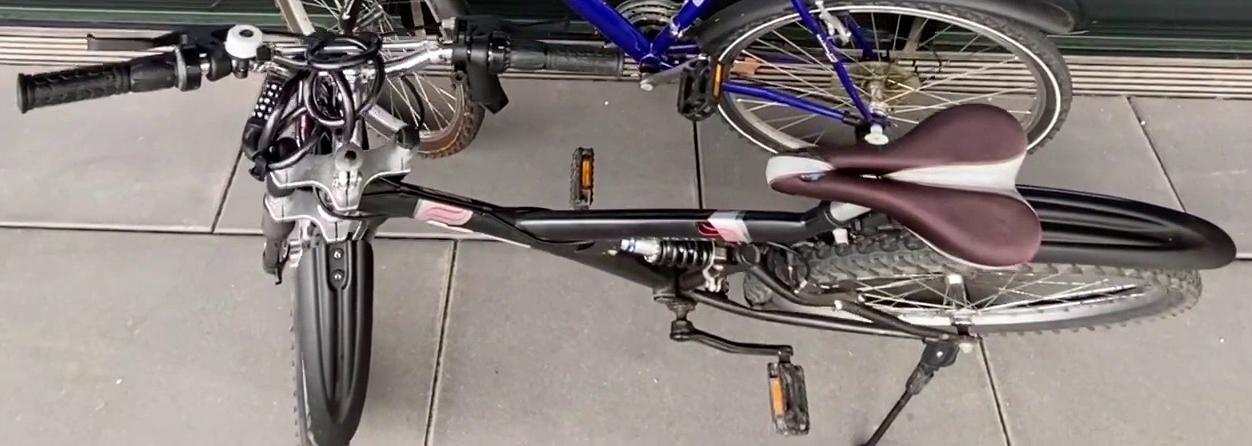Bicycle: (1, 0, 1252, 446)
